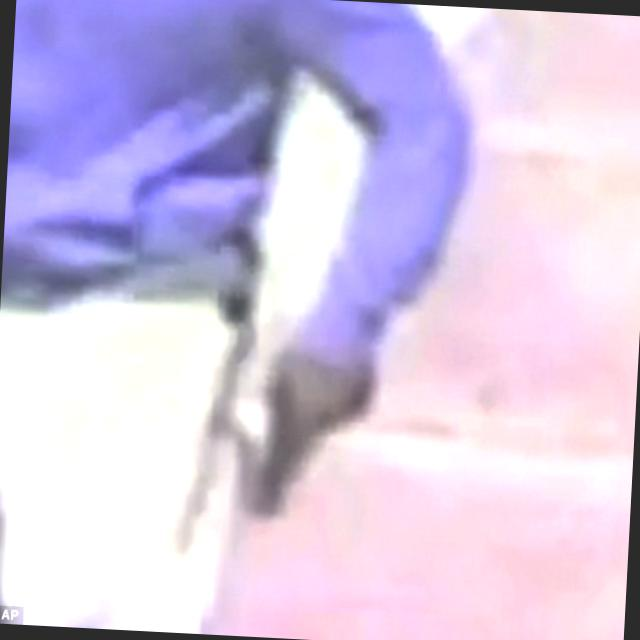handgun: (232, 351, 374, 530)
